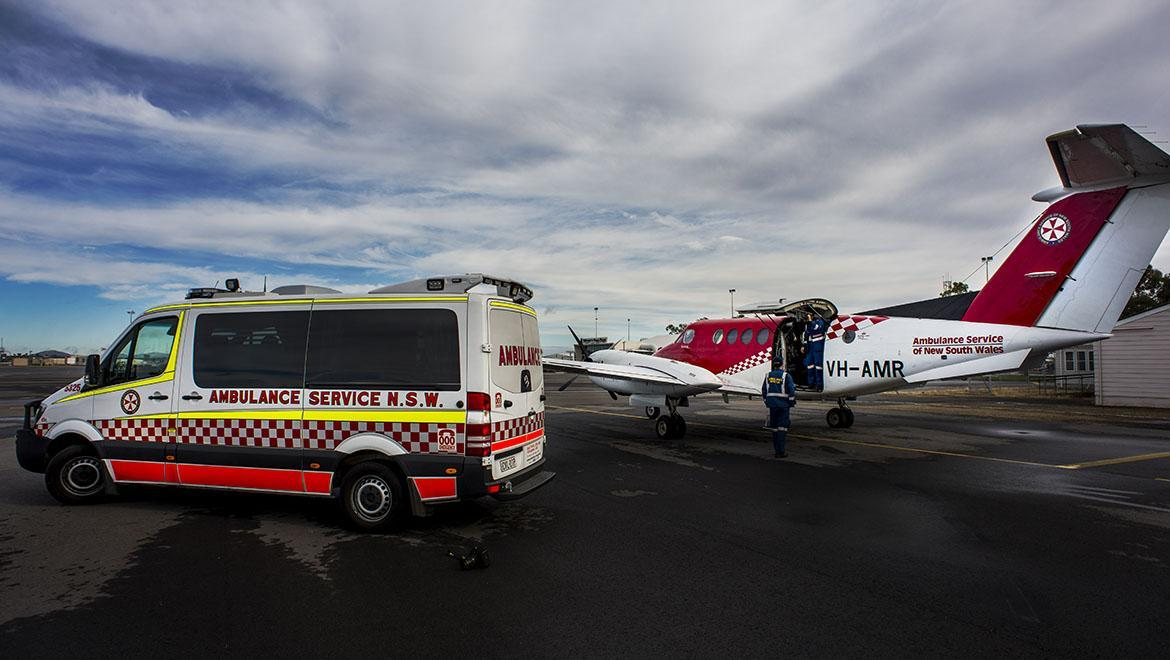Ambulance: (204, 386, 306, 413)
